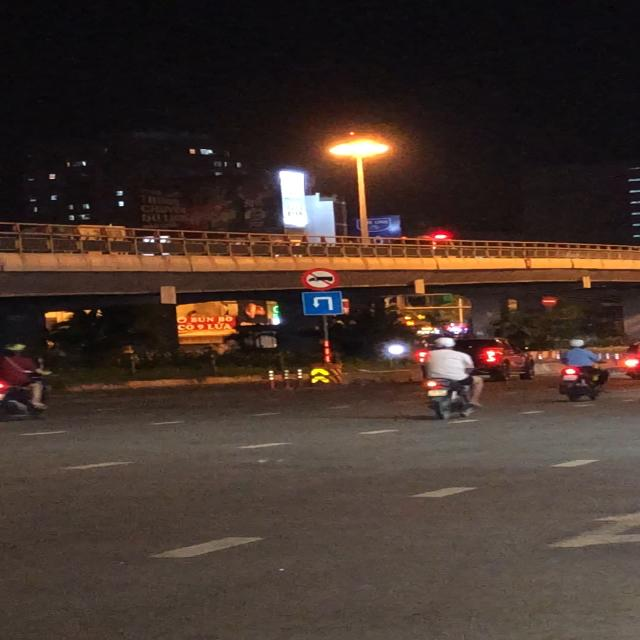Bien bao cam xe so-mi ro-mooc: (299, 266, 340, 292)
